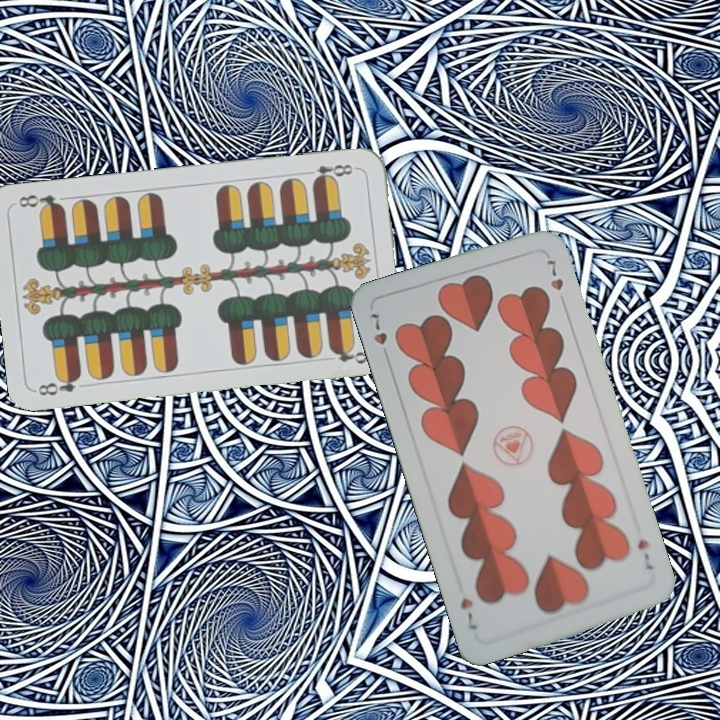E8: (301, 160, 360, 186), (34, 370, 83, 399)
H7: (365, 309, 392, 364), (633, 535, 656, 573)
